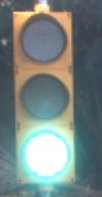Green: (5, 8, 85, 186)
